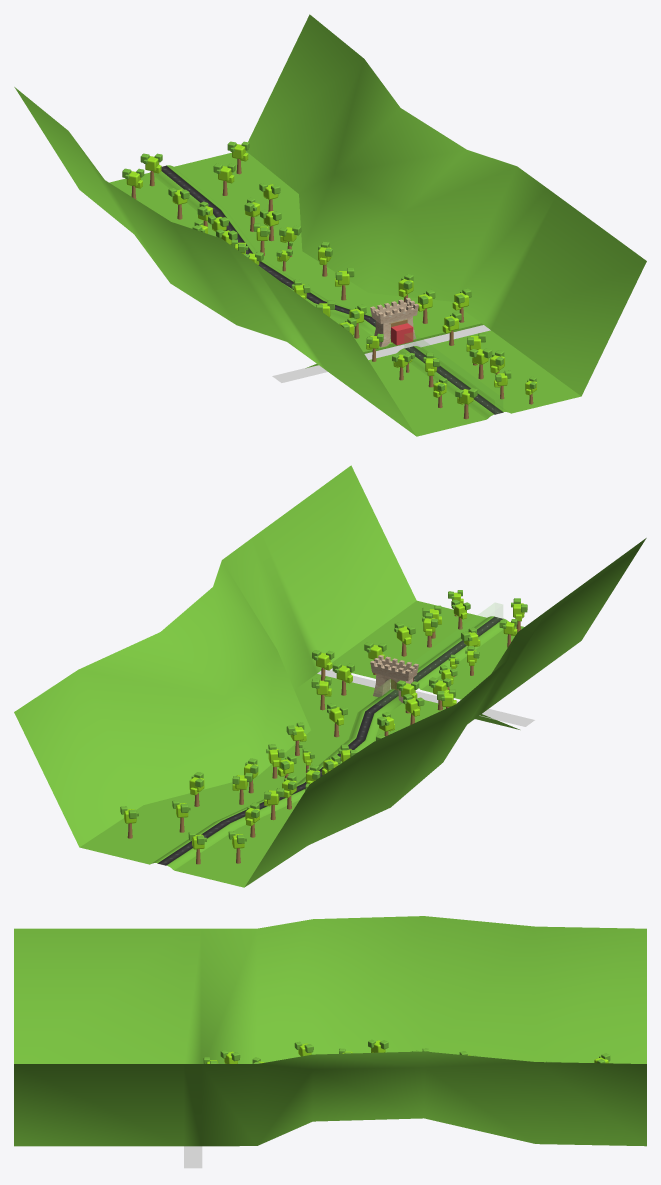
The model's file is IDG_ST_CHUNK_02.fbx.
The picture shows the model from 3 angles, top to bottom: view 1: azimuth 30°, elevation 25°; view 2: azimuth 150°, elevation 25°; view 3: azimuth 270°, elevation 25°; orthographic projection. The views are drawn at different scales.
Parts seen in each view (by area): view 1: IGD_ST_CHUNK_LEVEL, IGD_ST_TREES, IGD_ST_ROAD_TRIGGER, IGD_WATER, IGD_ST_GATE; view 2: IGD_ST_CHUNK_LEVEL, IGD_ST_TREES, IGD_ST_ROAD_TRIGGER, IGD_ST_GATE, IGD_WATER; view 3: IGD_ST_CHUNK_LEVEL, IGD_ST_TREES, IGD_WATER.
Part boxes in pixels (x1=…): IGD_ST_CHUNK_LEVEL: x1=14, y1=14, x2=646, y2=436; IGD_ST_TREES: x1=122, y1=141, x2=536, y2=419; IGD_ST_ROAD_TRIGGER: x1=375, y1=321, x2=502, y2=413; IGD_WATER: x1=272, y1=325, x2=490, y2=382; IGD_ST_GATE: x1=370, y1=298, x2=418, y2=347; IGD_ST_CHUNK_LEVEL: x1=14, y1=465, x2=646, y2=887; IGD_ST_TREES: x1=120, y1=590, x2=527, y2=864; IGD_ST_ROAD_TRIGGER: x1=375, y1=603, x2=502, y2=705; IGD_ST_GATE: x1=370, y1=655, x2=418, y2=702; IGD_WATER: x1=317, y1=669, x2=534, y2=726; IGD_ST_CHUNK_LEVEL: x1=14, y1=916, x2=646, y2=1146; IGD_ST_TREES: x1=203, y1=1039, x2=610, y2=1063; IGD_WATER: x1=184, y1=1146, x2=202, y2=1168.
Size of the model in its own units: 10094 by 3761 by 18233.
